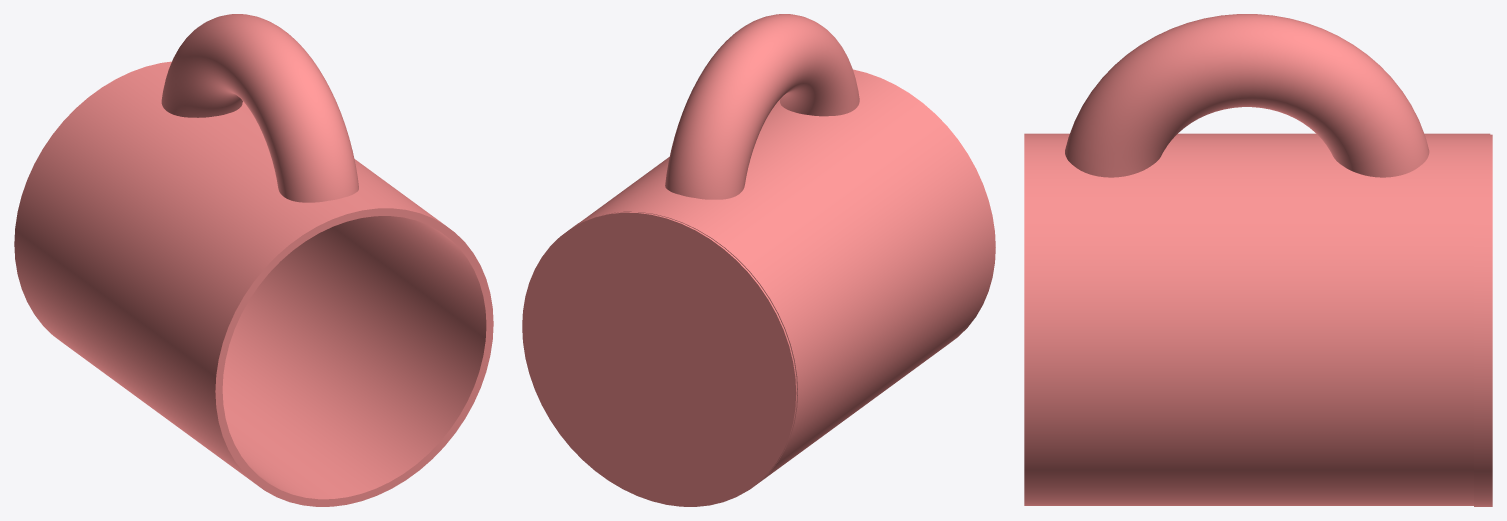
Rendered from LucasMcGinn.gltf.
3 views of the same model, side by side, from view 1: azimuth 30°, elevation 25°; view 2: azimuth 150°, elevation 25°; view 3: azimuth 270°, elevation 25° (orthographic). The views are drawn at different scales.
Parts seen in each view (by area): view 1: mesh4_mesh_4, mesh4_mesh, mesh0_mesh_2, mesh4_mesh_5, mesh4_mesh_2, mesh4_mesh_1, mesh0_mesh_1; view 2: mesh10_mesh_3, mesh4_mesh_4, mesh0_mesh_2, mesh4_mesh_5, mesh0_mesh_1, mesh10_mesh_1; view 3: mesh4_mesh_4, mesh4_mesh_5, mesh0_mesh_1, mesh10_mesh_1, mesh10_mesh_2, mesh0_mesh_2.
Part boxes in pixels (left/top/right/bottom): mesh4_mesh_4: left=14, top=62, right=442, bottom=390; mesh4_mesh: left=222, top=222, right=486, bottom=499; mesh0_mesh_2: left=161, top=15, right=338, bottom=202; mesh4_mesh_5: left=14, top=245, right=254, bottom=483; mesh4_mesh_2: left=215, top=208, right=493, bottom=506; mesh4_mesh_1: left=345, top=216, right=486, bottom=324; mesh0_mesh_1: left=224, top=14, right=358, bottom=198; mesh10_mesh_3: left=522, top=212, right=796, bottom=506; mesh4_mesh_4: left=581, top=69, right=995, bottom=391; mesh0_mesh_2: left=685, top=15, right=859, bottom=199; mesh4_mesh_5: left=756, top=248, right=995, bottom=484; mesh0_mesh_1: left=665, top=14, right=797, bottom=195; mesh10_mesh_1: left=571, top=212, right=797, bottom=392; mesh4_mesh_4: left=1024, top=133, right=1490, bottom=398; mesh4_mesh_5: left=1024, top=398, right=1473, bottom=505; mesh0_mesh_1: left=1065, top=18, right=1429, bottom=177; mesh10_mesh_1: left=1474, top=134, right=1492, bottom=399; mesh10_mesh_2: left=1474, top=399, right=1492, bottom=506; mesh0_mesh_2: left=1065, top=14, right=1429, bottom=150.
Size of the model in its own units: 0.1019 by 0.1418 by 0.1277.
